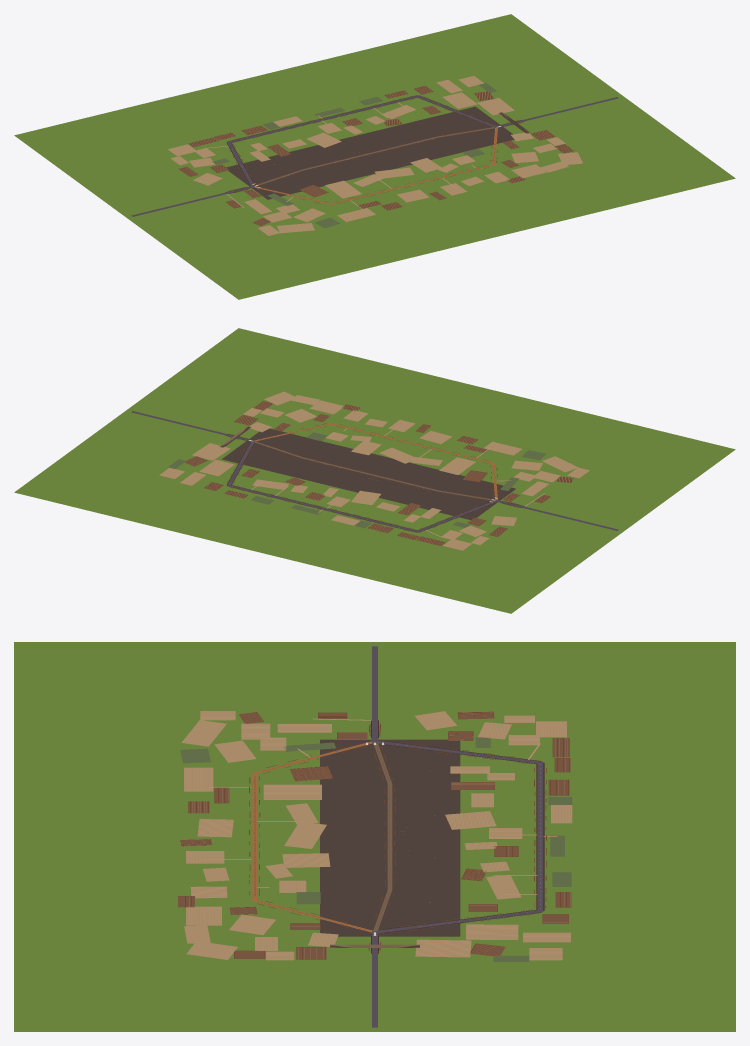
The model's file is D-CROSSING.base.glb.
3 views of the same model, one above another, from view 1: azimuth 30°, elevation 25°; view 2: azimuth 150°, elevation 25°; view 3: azimuth 270°, elevation 25° (orthographic). The views are drawn at different scales.
Visible parts, largest first — view 1: pal_grass; view 2: pal_grass; view 3: pal_grass, crossing-1-0, crossing-1-7, crossing-2-0, crossing-2-7, crossing-3-0, crossing-3-1, crossing-3-2, crossing-3-5, crossing-3-6, crossing-3-7, crossing-4-0 (+86 smaller).
Boxes of the visible parts, x1=… form: pal_grass: x1=14, y1=14, x2=735, y2=299; pal_grass: x1=14, y1=328, x2=735, y2=613; pal_grass: x1=14, y1=642, x2=735, y2=1031; crossing-1-0: x1=525, y1=731, x2=575, y2=752; crossing-1-7: x1=174, y1=731, x2=224, y2=752; crossing-2-0: x1=525, y1=752, x2=575, y2=773; crossing-2-7: x1=174, y1=752, x2=224, y2=773; crossing-3-0: x1=525, y1=773, x2=575, y2=794; crossing-3-1: x1=475, y1=773, x2=525, y2=794; crossing-3-2: x1=425, y1=773, x2=475, y2=794; crossing-3-5: x1=274, y1=773, x2=324, y2=794; crossing-3-6: x1=224, y1=773, x2=274, y2=794; crossing-3-7: x1=174, y1=773, x2=224, y2=794; crossing-4-0: x1=525, y1=794, x2=575, y2=815.
Bounding box in the file's own units: 1840 × 6.82 × 1440.
